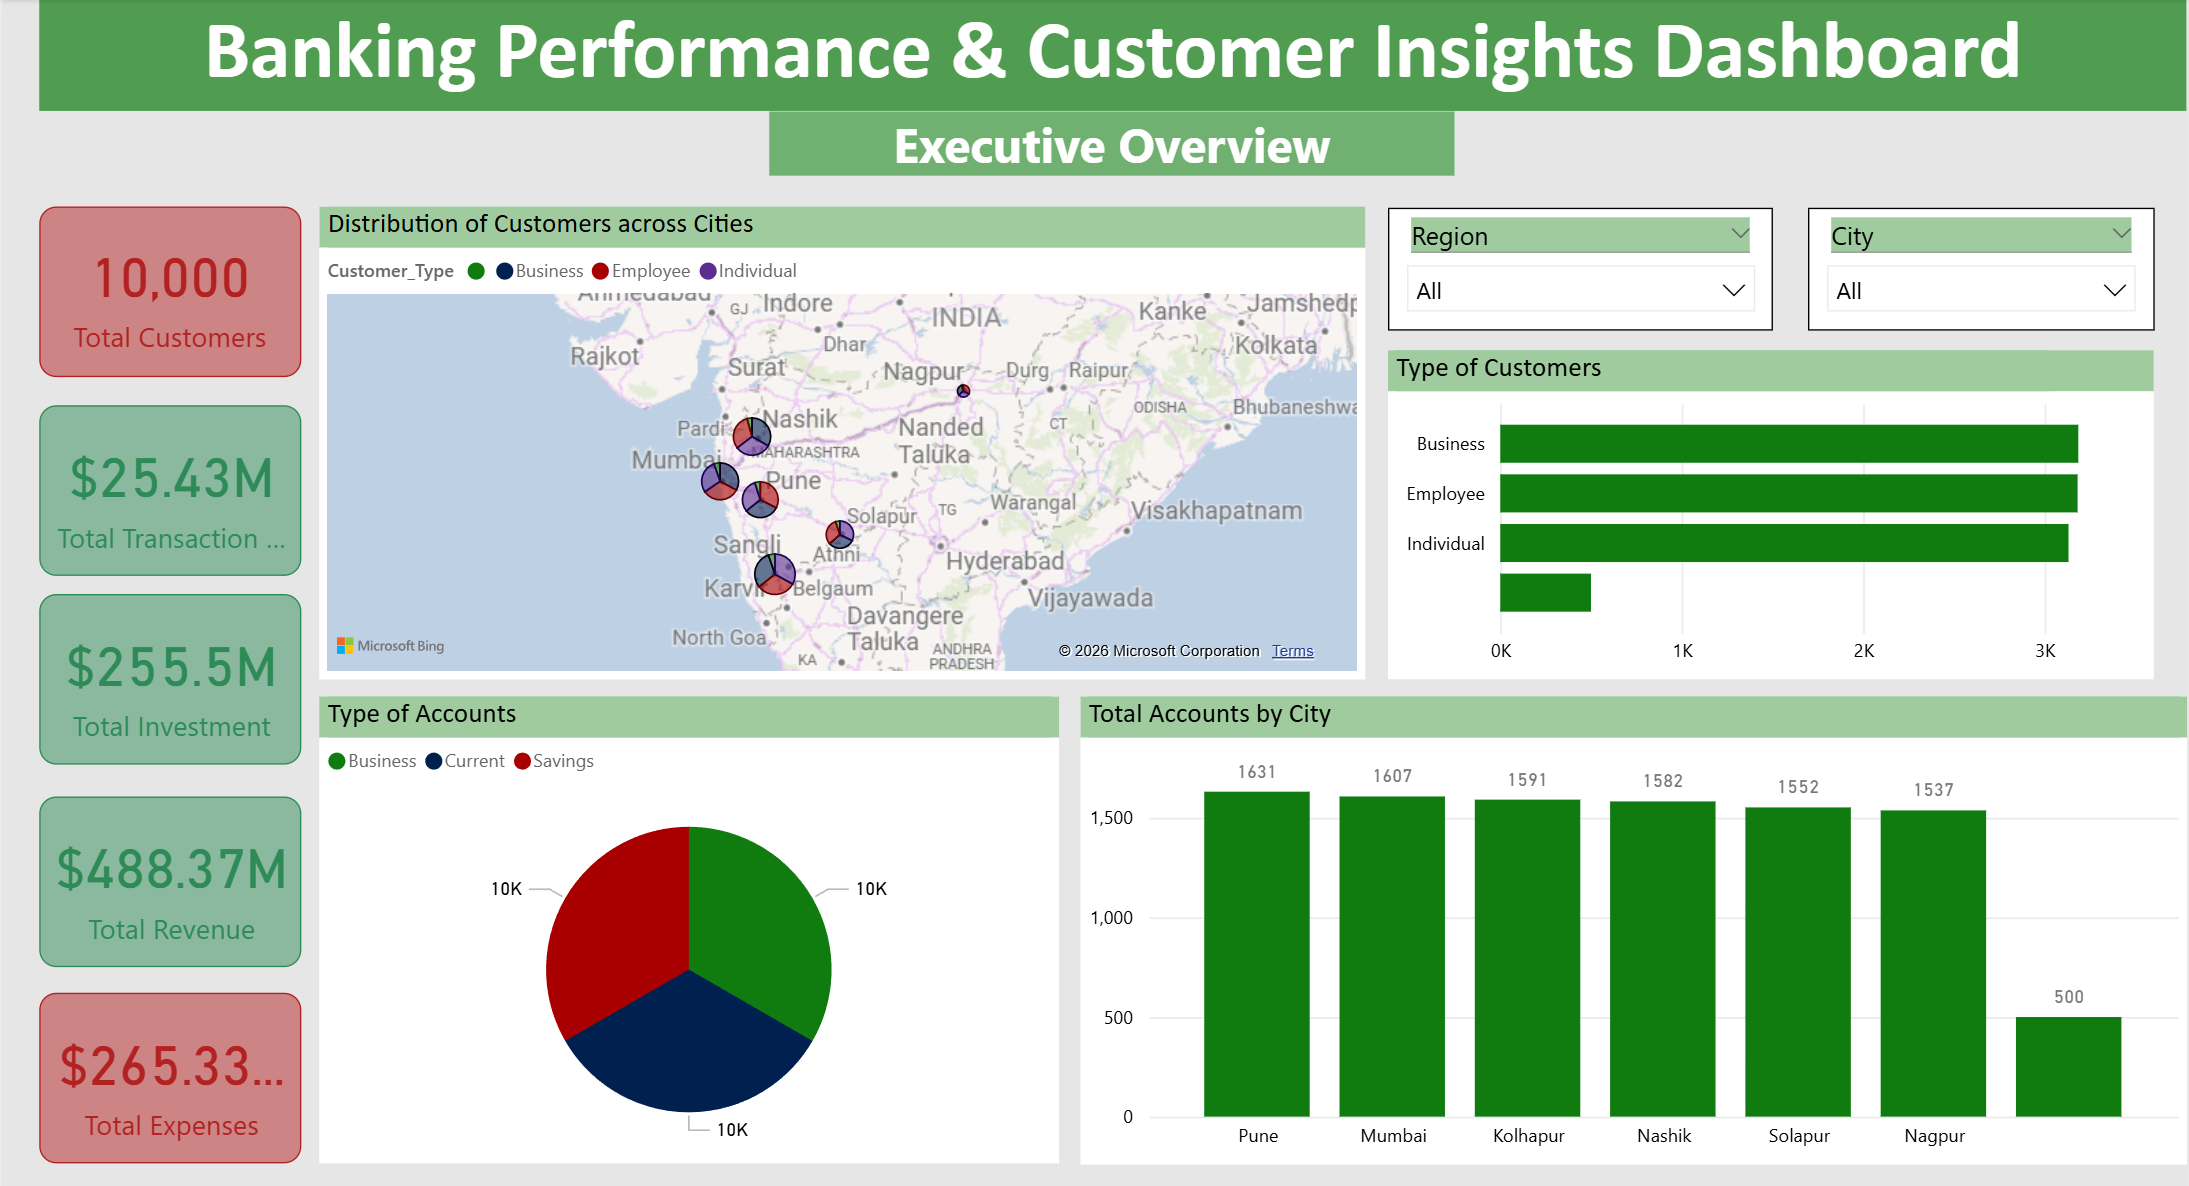

The page's visual inventory and layout, read from the dashboard file:
{"tool":"powerbi","page":{"name":"Page 1","canvas":[1280,720],"ordinal":0},"visuals":[{"type":"card","fields":{"Values":["customer_data.Total Customers"]},"box":[21,121.7,153.7,99.7],"z":0},{"type":"card","fields":{"Values":["transaction_data.Total Transaction Amount"]},"box":[21,237.9,153.7,99.7],"z":1000},{"type":"card","fields":{"Values":["transaction_data.Total Investment"]},"box":[21,348.5,153.7,99.7],"z":2000},{"type":"card","fields":{"Values":["bank_data.Total Revenue"]},"box":[21,467.5,153.7,99.7],"z":3000},{"type":"card","fields":{"Values":["bank_data.Total Expenses"]},"box":[21,582.7,153.7,99.7],"z":4000},{"type":"barChart","title":"Type of Customers","fields":{"Category":["customer_data.Customer_Type"],"Y":["customer_data.Total Customers"]},"box":[811.4,205.8,449.2,193],"z":5000},{"type":"pieChart","title":"Type of Accounts ","fields":{"Category":["transaction_data.Account_Type"],"Y":["customer_data.Total Customers"]},"box":[185.7,408.9,433.6,273.5],"z":6000},{"type":"slicer","fields":{"Values":["bank_data.Region"]},"box":[811.4,122.6,226,72.3],"z":7000},{"type":"slicer","fields":{"Values":["customer_data.City"]},"box":[1057.5,122.6,203.1,72.3],"z":7001},{"type":"map","title":"Distribution of Customers across Cities","fields":{"Category":["bank_data.City"],"Size":["customer_data.Total Customers"],"Series":["customer_data.Customer_Type"]},"box":[185.7,121.7,612.9,277.2],"z":7002},{"type":"clusteredColumnChart","title":"Total Accounts by City","fields":{"Category":["customer_data.City"],"Y":["CountNonNull(customer_data.Customer_Type)"]},"box":[631.2,408.9,648.6,274.4],"z":7003},{"type":"textbox","title":"Banking Performance & Customer Insights Dashboard","box":[21,0,1258.8,65.9],"z":7004},{"type":"textbox","title":"Executive Overview","box":[449.2,65.9,401.6,37.5],"z":7005}]}

Visuals, with their boxes on the page's 1280x720 design canvas (x1, y1, x2, y2). These are canvas units, not pixel positions in the 2189x1186 screenshot, which may show the page scaled, cropped or inside an application window:
card - customer_data.Total Customers: crop(21, 122, 175, 221)
card - transaction_data.Total Transaction Amount: crop(21, 238, 175, 338)
card - transaction_data.Total Investment: crop(21, 348, 175, 448)
card - bank_data.Total Revenue: crop(21, 468, 175, 567)
card - bank_data.Total Expenses: crop(21, 583, 175, 682)
"Type of Customers" barChart: crop(811, 206, 1261, 399)
"Type of Accounts " pieChart: crop(186, 409, 619, 682)
slicer - bank_data.Region: crop(811, 123, 1037, 195)
slicer - customer_data.City: crop(1058, 123, 1261, 195)
"Distribution of Customers across Cities" map: crop(186, 122, 799, 399)
"Total Accounts by City" clusteredColumnChart: crop(631, 409, 1280, 683)
"Banking Performance & Customer Insights Dashboard" textbox: crop(21, 0, 1280, 66)
"Executive Overview" textbox: crop(449, 66, 851, 103)
